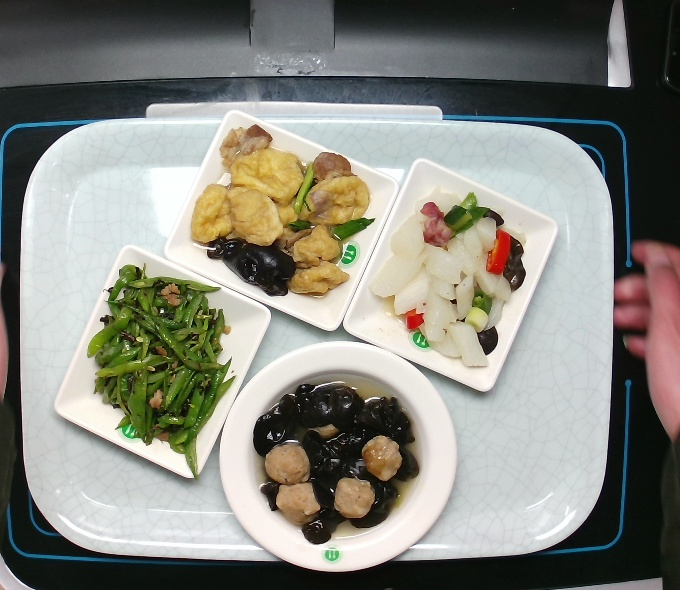wcq-MuErWanZi: (252, 379, 421, 547)
wcq-ShanYao: (367, 188, 528, 370)
wcq-SiJiDouChaoRou: (86, 263, 233, 447)
wcq-YouPaoRouPian: (187, 124, 372, 297)
